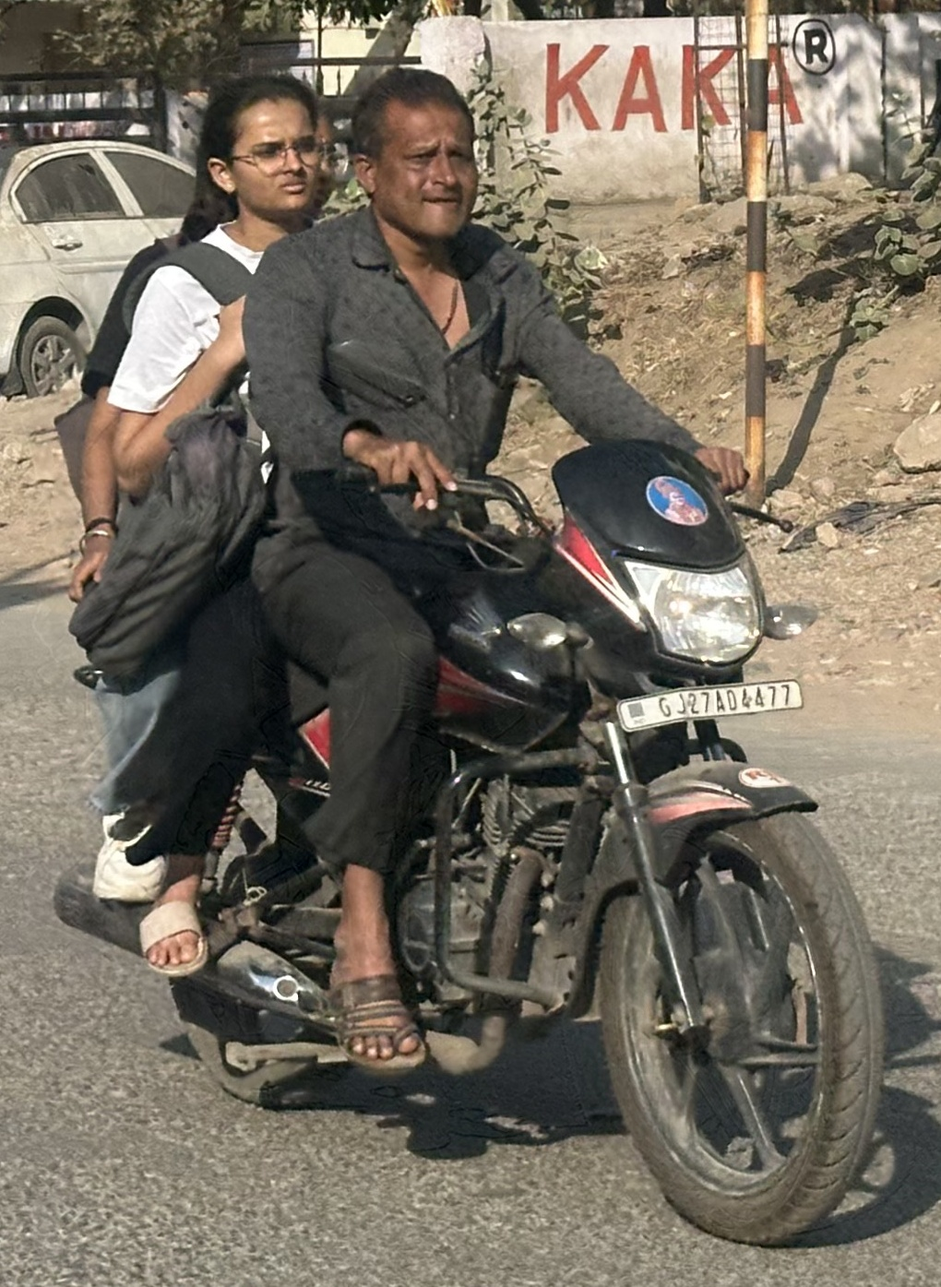BikeWithRider: (35, 53, 901, 1257)
NoHelmet: (334, 60, 500, 249), (177, 63, 348, 237)
